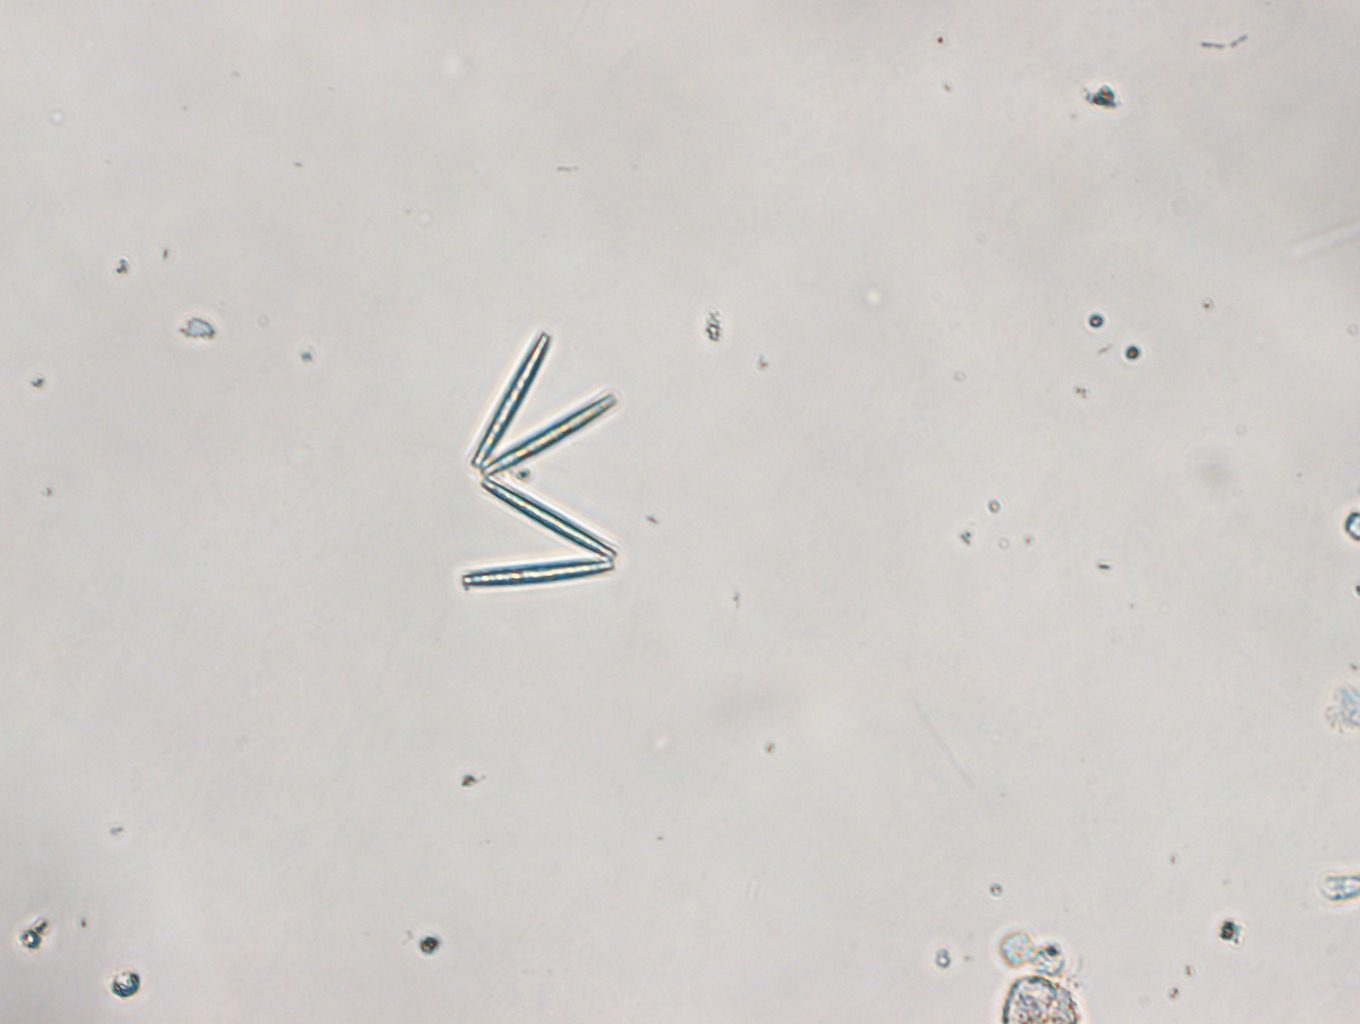thalassionema nitzschioides: (460, 331, 617, 591)
